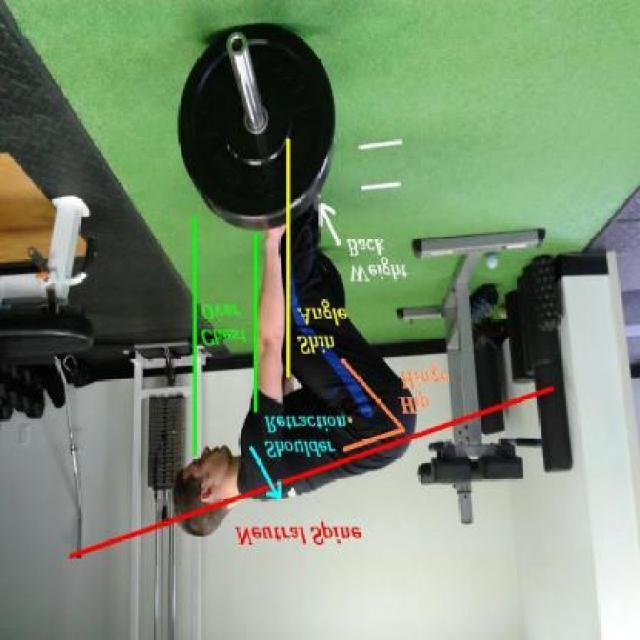Barbell: (224, 30, 250, 61)
